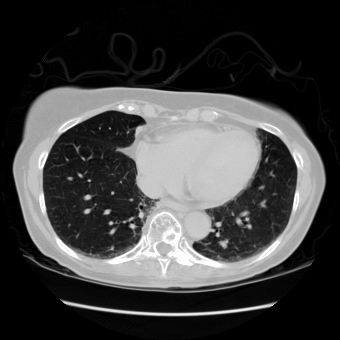nodule: (219, 239, 227, 247)
